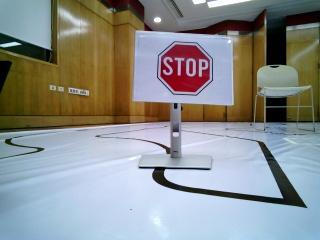stop: (140, 36, 228, 102)
